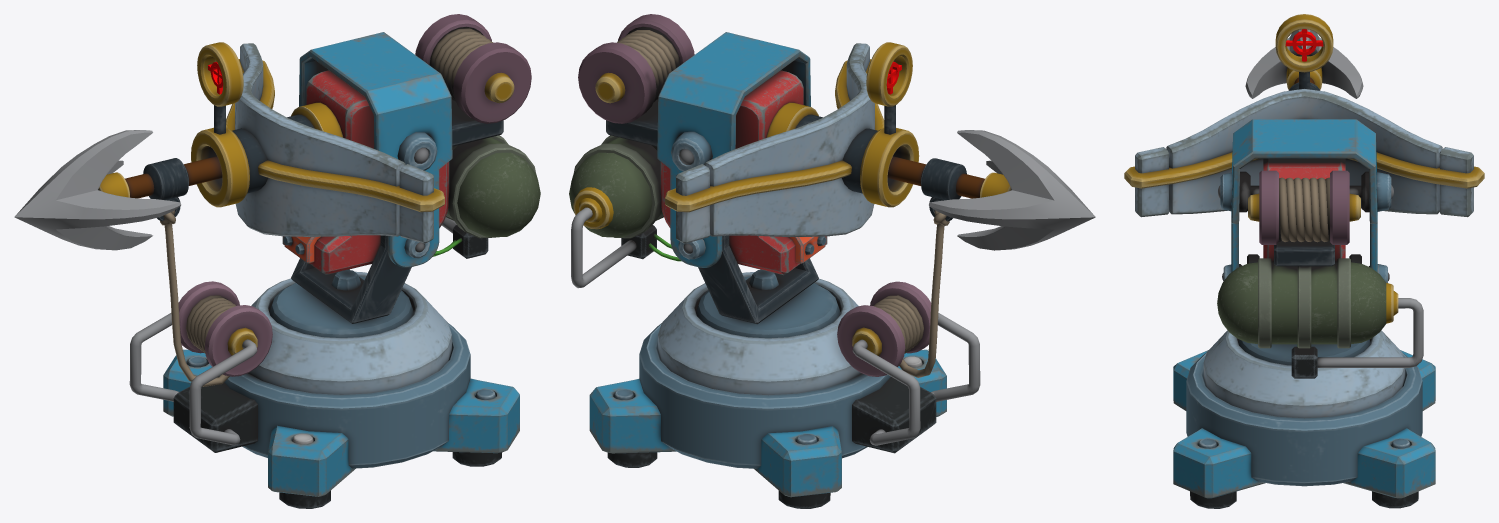
Rendered from Harpoon Upgrade 2.fbx.
The picture shows the model from 3 angles, left to right: view 1: azimuth 30°, elevation 25°; view 2: azimuth 150°, elevation 25°; view 3: azimuth 270°, elevation 25°; orthographic projection. The views are drawn at different scales.
Visible parts, largest first — view 1: Harpoon009, Harpoon001, Harpoon002, Harpoon010, Harpoon033, Harpoon017, Harpoon040, Harpoon020, Harpoon006, Harpoon019, Harpoon045, Harpoon029 (+18 smaller); view 2: Harpoon009, Harpoon001, Harpoon002, Harpoon010, Harpoon033, Harpoon017, Harpoon040, Harpoon020, Harpoon006, Harpoon019, Harpoon045, Harpoon029 (+18 smaller); view 3: Harpoon009, Harpoon001, Harpoon002, Harpoon033, Harpoon020, Harpoon010, Harpoon021, Harpoon038, Harpoon040, Harpoon012, Harpoon017, Harpoon028 (+8 smaller).
Part boxes in pixels (x1,y1,x2,y2): Harpoon009: [235, 43, 433, 243]; Harpoon001: [219, 323, 470, 468]; Harpoon002: [248, 271, 451, 394]; Harpoon010: [299, 32, 452, 267]; Harpoon033: [163, 349, 519, 496]; Harpoon017: [14, 130, 181, 250]; Harpoon040: [415, 14, 531, 123]; Harpoon020: [447, 137, 540, 237]; Harpoon006: [282, 70, 449, 274]; Harpoon019: [291, 235, 411, 323]; Harpoon045: [178, 281, 272, 376]; Harpoon029: [269, 276, 413, 337]; Harpoon009: [676, 43, 874, 243]; Harpoon001: [639, 323, 890, 468]; Harpoon002: [658, 272, 861, 395]; Harpoon010: [657, 32, 810, 267]; Harpoon033: [589, 349, 946, 497]; Harpoon017: [929, 130, 1095, 250]; Harpoon040: [578, 14, 694, 123]; Harpoon020: [569, 137, 662, 237]; Harpoon006: [660, 70, 827, 275]; Harpoon019: [698, 235, 818, 324]; Harpoon045: [837, 281, 931, 376]; Harpoon029: [696, 276, 840, 338]; Harpoon009: [1135, 89, 1473, 217]; Harpoon001: [1186, 352, 1422, 486]; Harpoon002: [1203, 330, 1405, 418]; Harpoon033: [1173, 350, 1435, 498]; Harpoon020: [1217, 262, 1398, 344]; Harpoon010: [1231, 119, 1377, 272]; Harpoon021: [1258, 258, 1350, 348]; Harpoon038: [1124, 152, 1484, 188]; Harpoon040: [1248, 170, 1360, 244]; Harpoon012: [1279, 177, 1329, 242]; Harpoon017: [1245, 29, 1363, 98]; Harpoon028: [1218, 171, 1393, 282].
Bounding box in the file's own units: 604 × 492 × 412.
